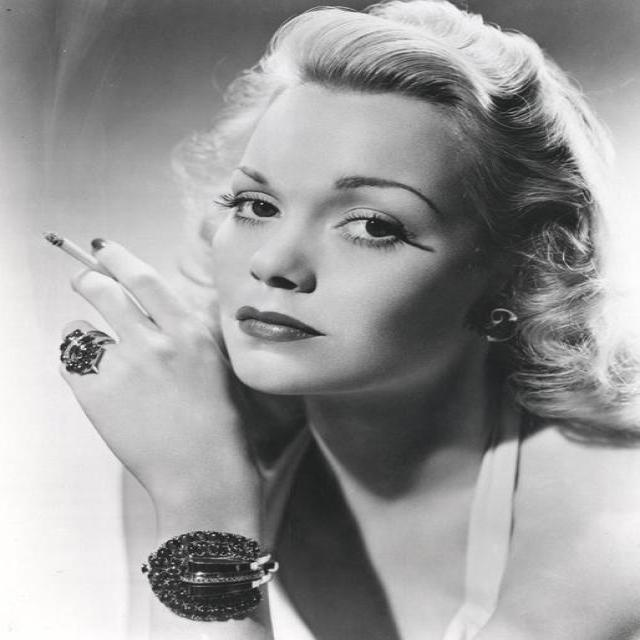smoking: (44, 228, 125, 292)
